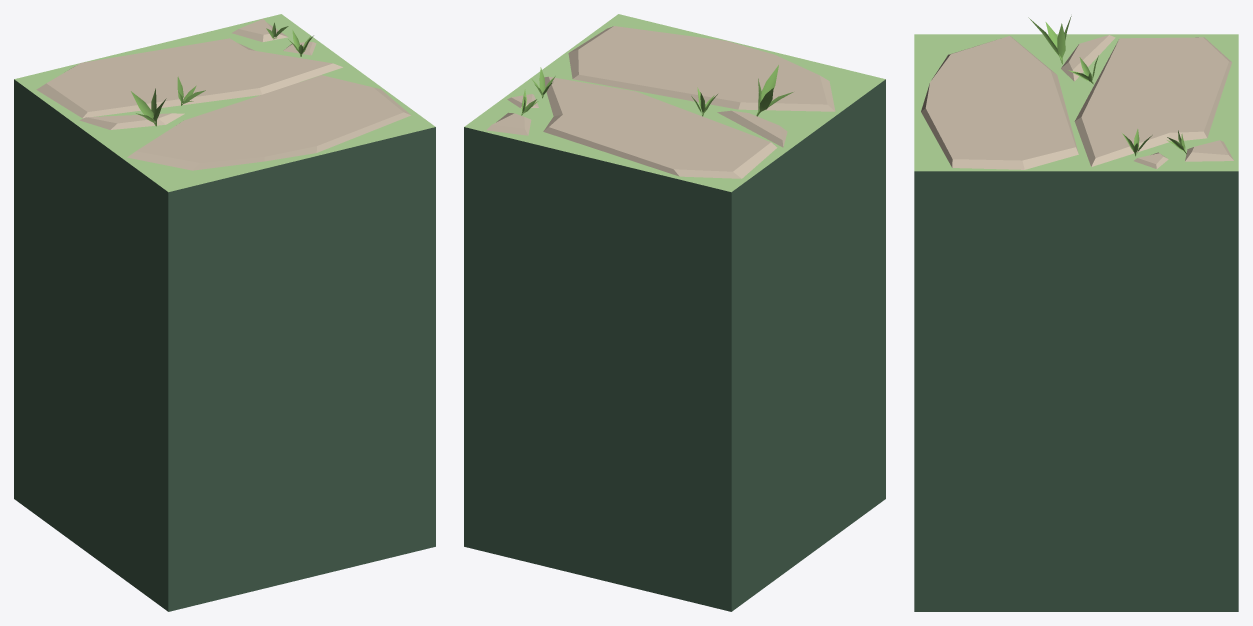
The model's file is Path02.fbx.
The picture shows the model from 3 angles, left to right: view 1: azimuth 30°, elevation 25°; view 2: azimuth 150°, elevation 25°; view 3: azimuth 270°, elevation 25°; orthographic projection. The views are drawn at different scales.
Parts seen in each view (by area): view 1: Cube.037; view 2: Cube.037; view 3: Cube.037.
Part boxes in pixels (left/top/right/bottom): Cube.037: left=14, top=14, right=435, bottom=611; Cube.037: left=464, top=14, right=885, bottom=611; Cube.037: left=914, top=16, right=1238, bottom=611.
Bounding box in the file's own units: 100 × 165 × 100.
